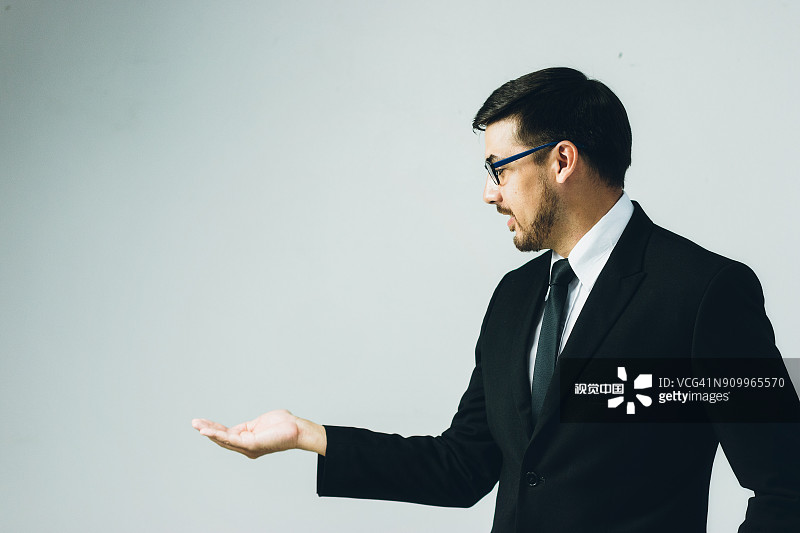no-phone: (172, 389, 318, 467)
